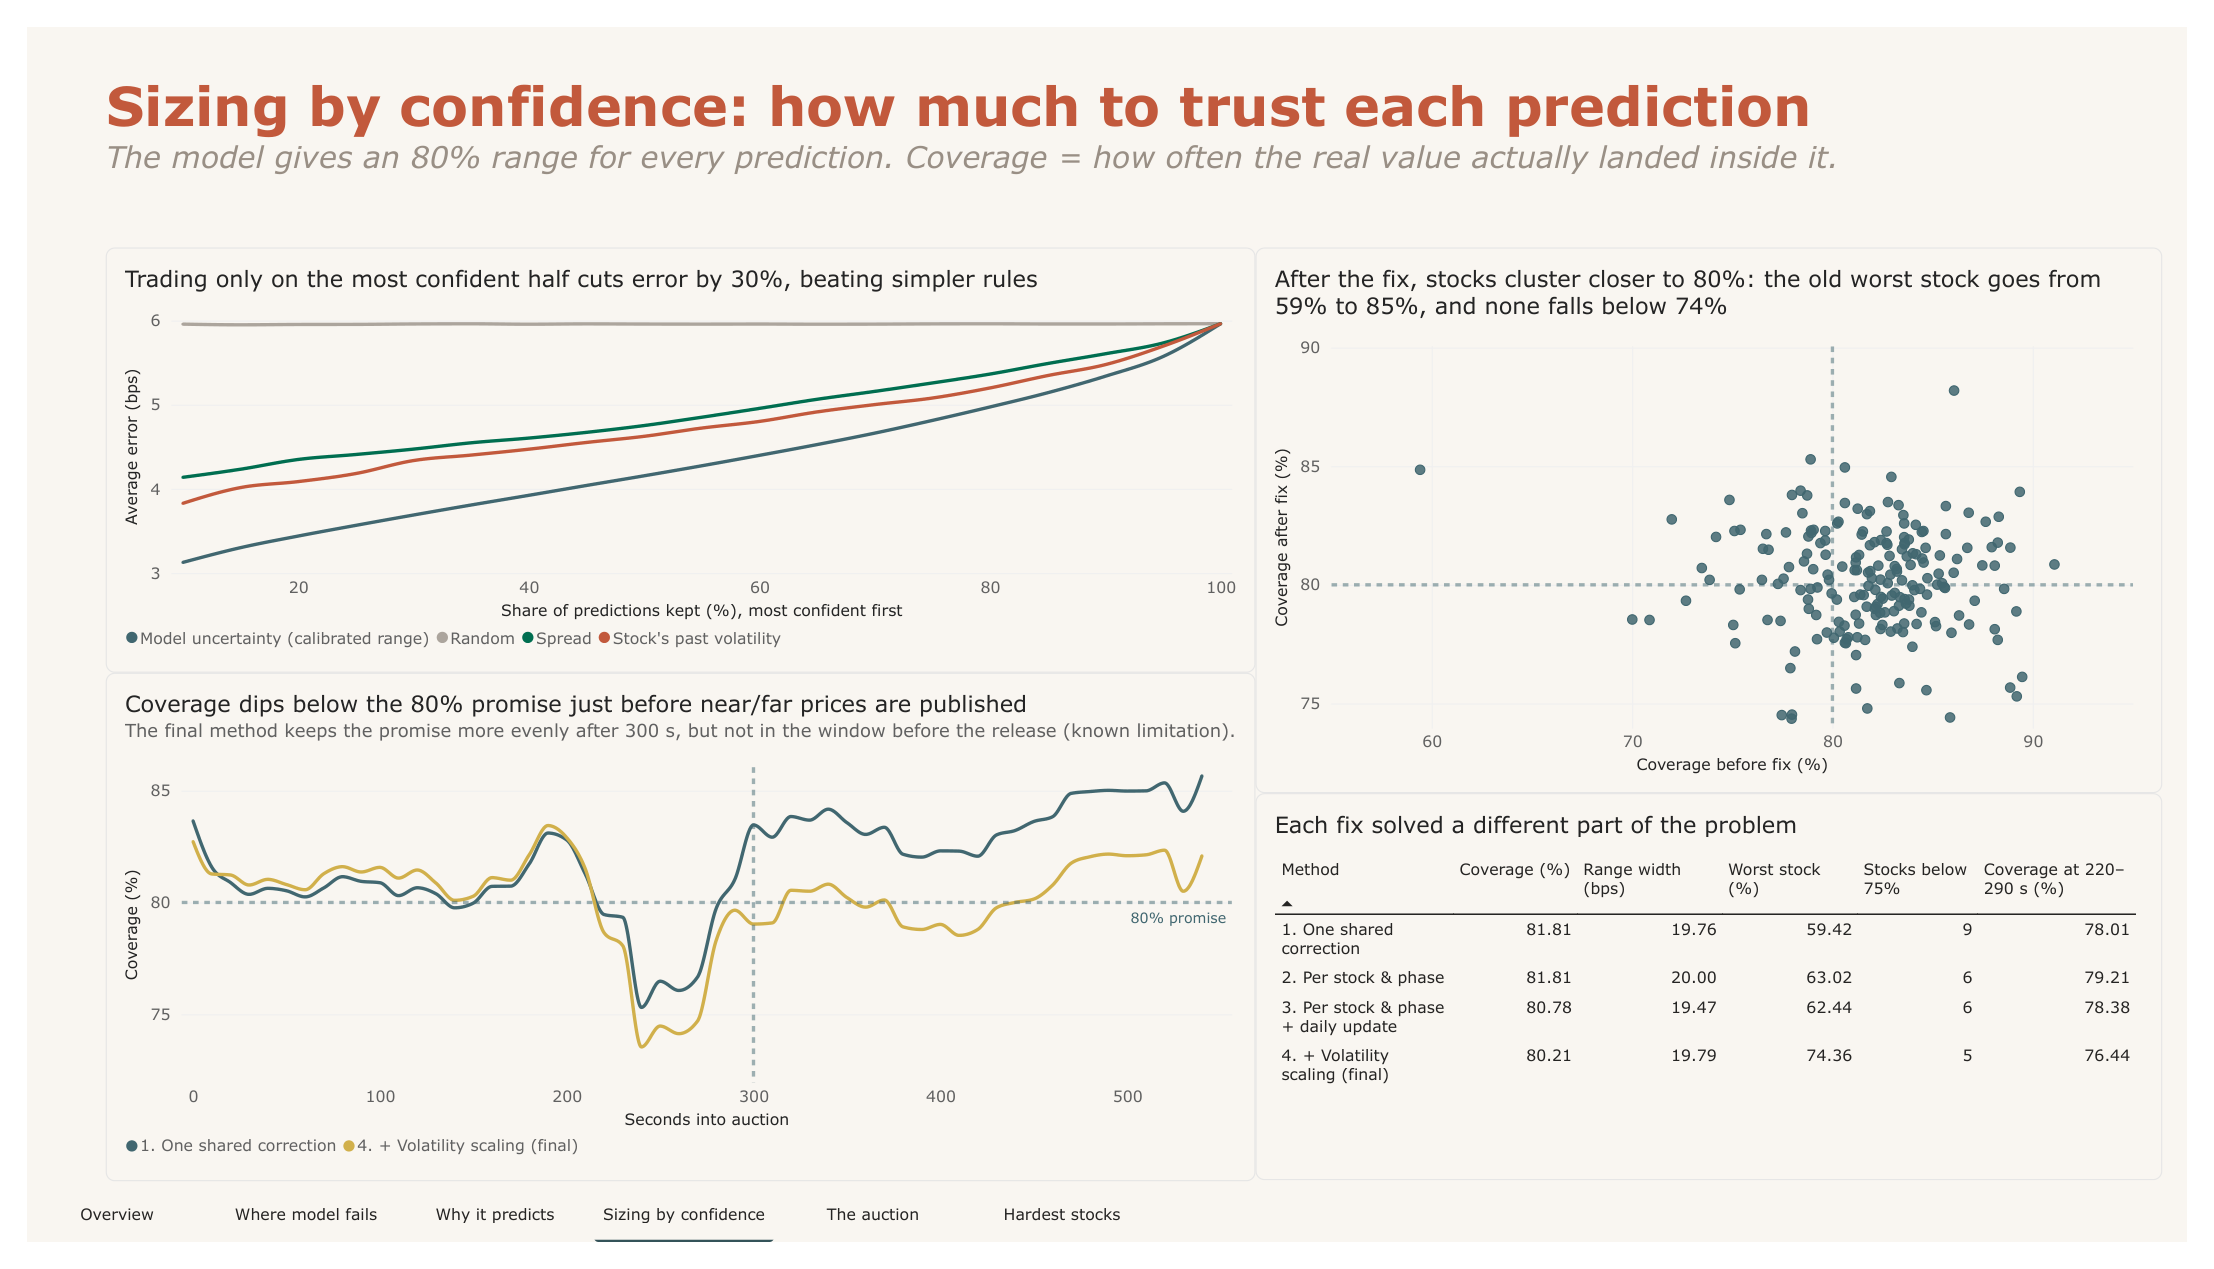

The page's visual inventory and layout, read from the dashboard file:
{"tool":"powerbi","page":{"name":"Sizing by confidence","canvas":[1920,1080],"ordinal":3},"visuals":[{"type":"textbox","box":[70,40,1608,156],"z":0},{"type":"lineChart","title":"Trading only on the most confident half cuts error by 30%, beating simpler rules","fields":{"Category":["risk_coverage_labelled.fraction_kept"],"Series":["risk_coverage_labelled.ranking"],"Y":["Avg(risk_coverage_labelled.mae_kept)"]},"box":[69.8,196.2,1022.6,377.4],"z":1000},{"type":"lineChart","title":"Coverage dips below the 80% promise just before near/far prices are published","fields":{"Category":["conformal_by_second.seconds_in_bucket"],"Series":["conformal_by_second.method"],"Y":["Avg(conformal_by_second.coverage)"]},"box":[70,574,1022,452],"z":2000},{"type":"scatterChart","title":"After the fix, stocks cluster closer to 80%: the old worst stock goes from 59% to 85%, and none falls below 74%","fields":{"Category":["conformal_by_stock.stock_id"],"X":["Sum(conformal_by_stock.coverage_shared)"],"Y":["Sum(conformal_by_stock.coverage_final)"]},"box":[1092.5,196.2,805.7,484.9],"z":3000},{"type":"tableEx","title":"Each fix solved a different part of the problem","fields":{"Values":["conformal_methods.method","conformal_methods.coverage","conformal_methods.mean_width","Sum(conformal_methods.stock_cov_min)","Sum(conformal_methods.stocks_below_75pct)","Sum(conformal_methods.danger_zone_coverage_220_290s)"]},"box":[1092.5,681.1,805.7,343.4],"z":4000},{"type":"pageNavigator","box":[0,1030,1000,50],"z":4001}]}

Visuals, with their boxes in screenshot pixels (x1, y1, x2, y2), scaled from the page's 1920x1080 canvas onto the 2214x1269 screenshot:
textbox: Rect(81, 47, 1935, 230)
"Trading only on the most confident half cuts error by 30%, beating simpler rules" lineChart: Rect(80, 231, 1260, 674)
"Coverage dips below the 80% promise just before near/far prices are published" lineChart: Rect(81, 674, 1259, 1206)
"After the fix, stocks cluster closer to 80%: the old worst stock goes from 59% to 85%, and none falls below 74%" scatterChart: Rect(1260, 231, 2189, 800)
"Each fix solved a different part of the problem" tableEx: Rect(1260, 800, 2189, 1204)
pageNavigator: Rect(0, 1210, 1153, 1268)
